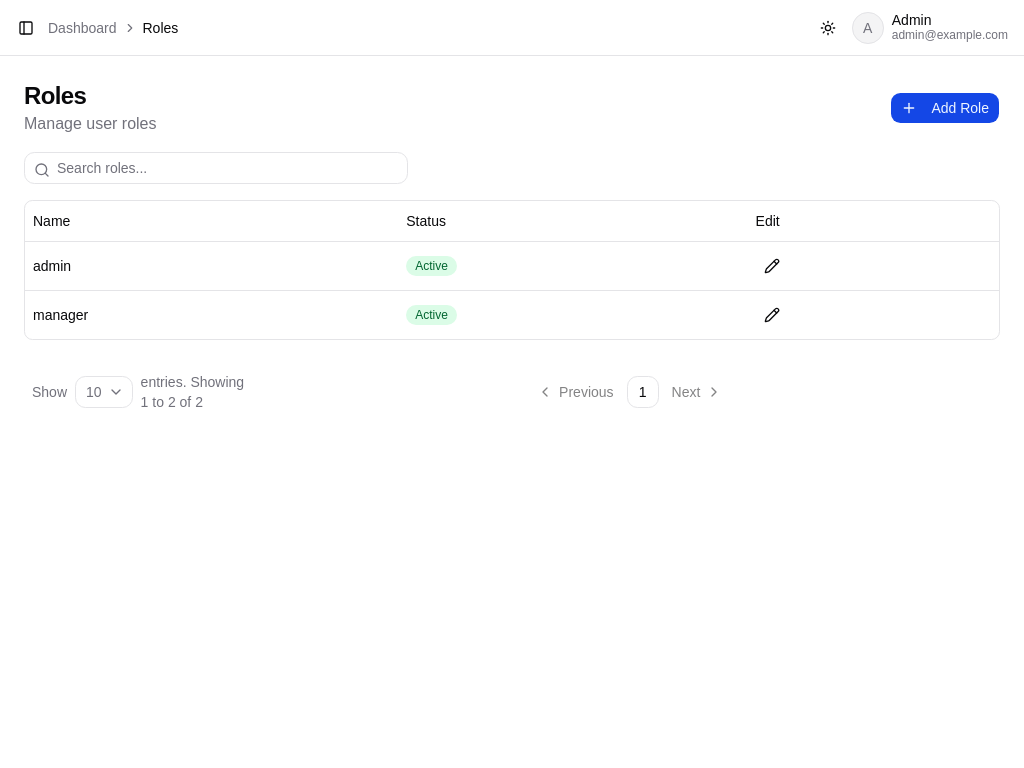
Test case: Roles page › opens Add Role dialog and shows validation error for short name
This screenshot has width=1024, height=768.
Click the button "Add Role": (945, 108) [890,92,1000,124]
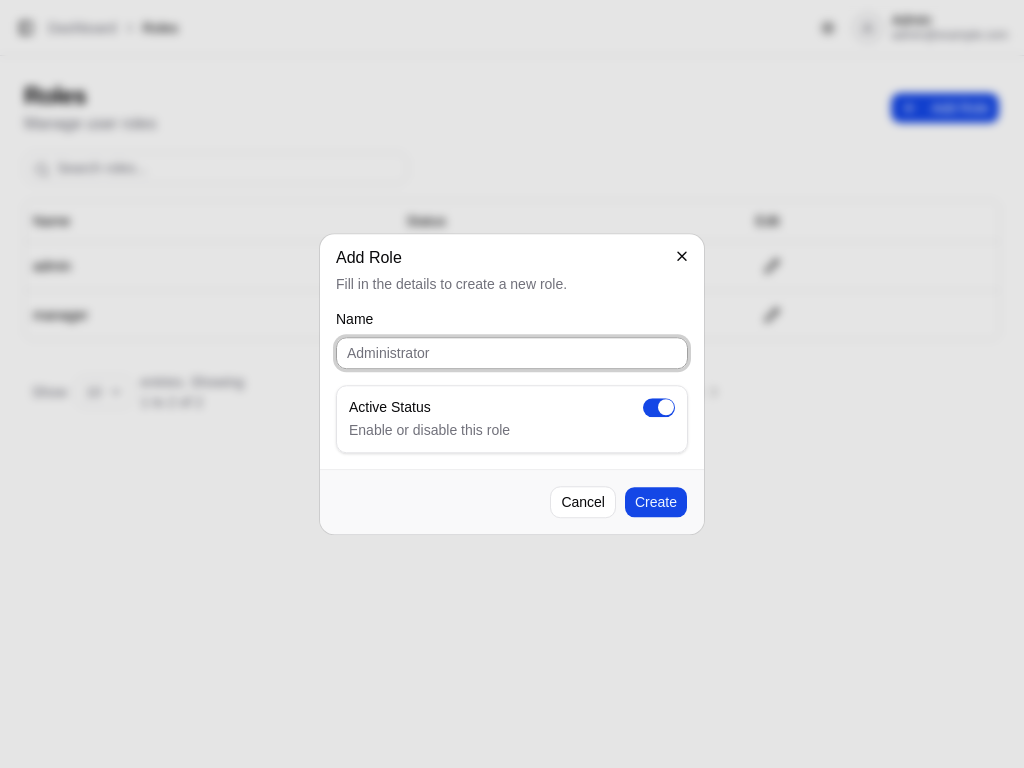
expect the dialog "Add Role" is shown: met, box [320,234,704,534]
In the field with placeholder "Administrator": (512, 354) [336,338,688,370], type "A"
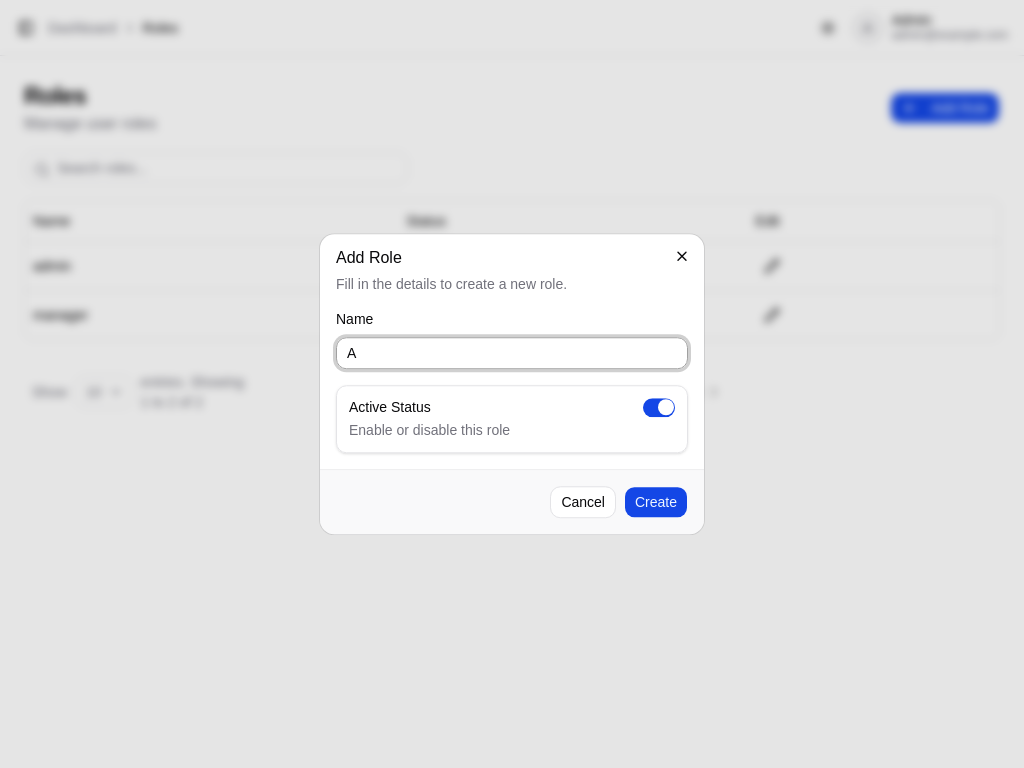
Click the button "Create": (656, 502) [624,486,688,518]
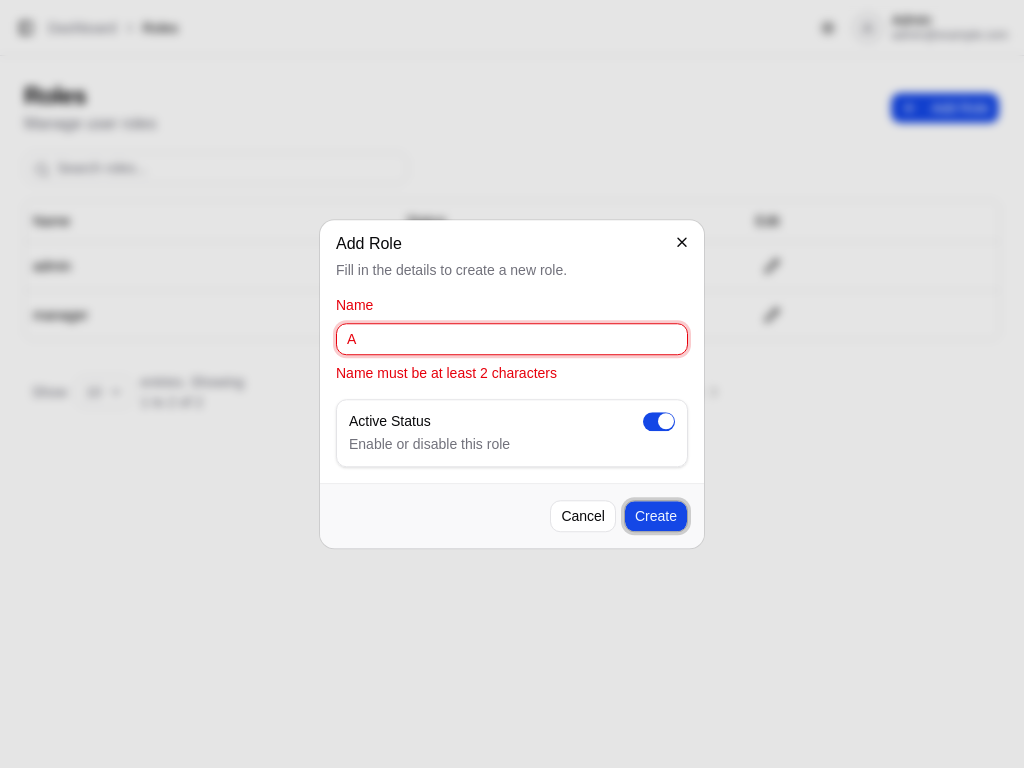
expect the text "Name must be at least 2 characters" is shown: met, box [336,366,557,382]
